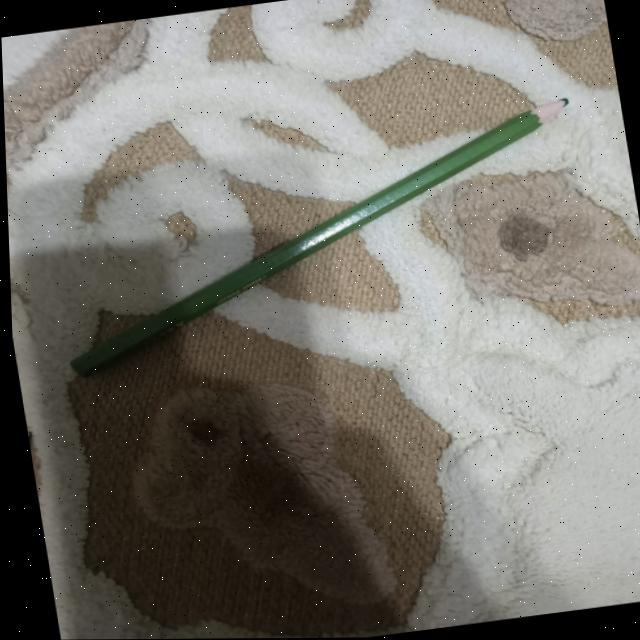pencil: (67, 99, 567, 377)
